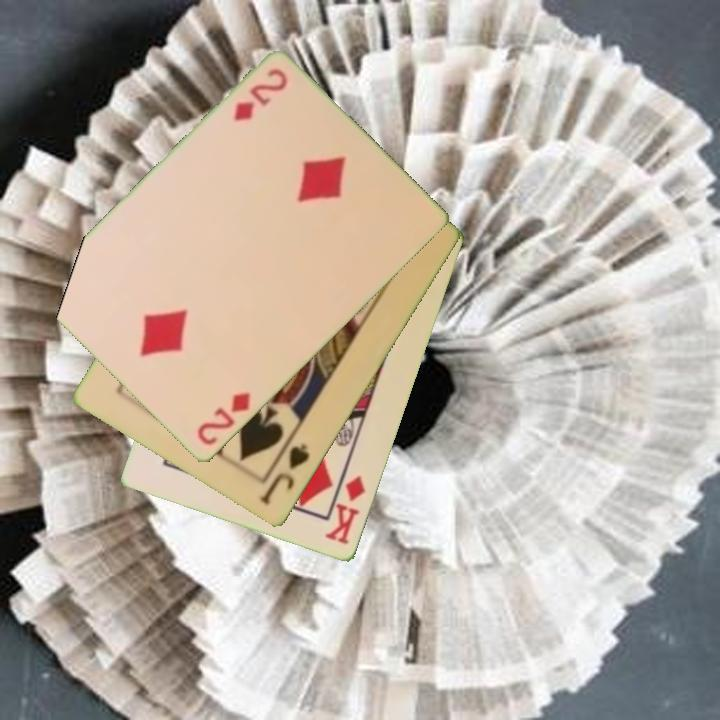2d: (193, 389, 254, 449), (230, 65, 291, 125)
Js: (256, 441, 313, 509)
Kd: (322, 472, 369, 548)
